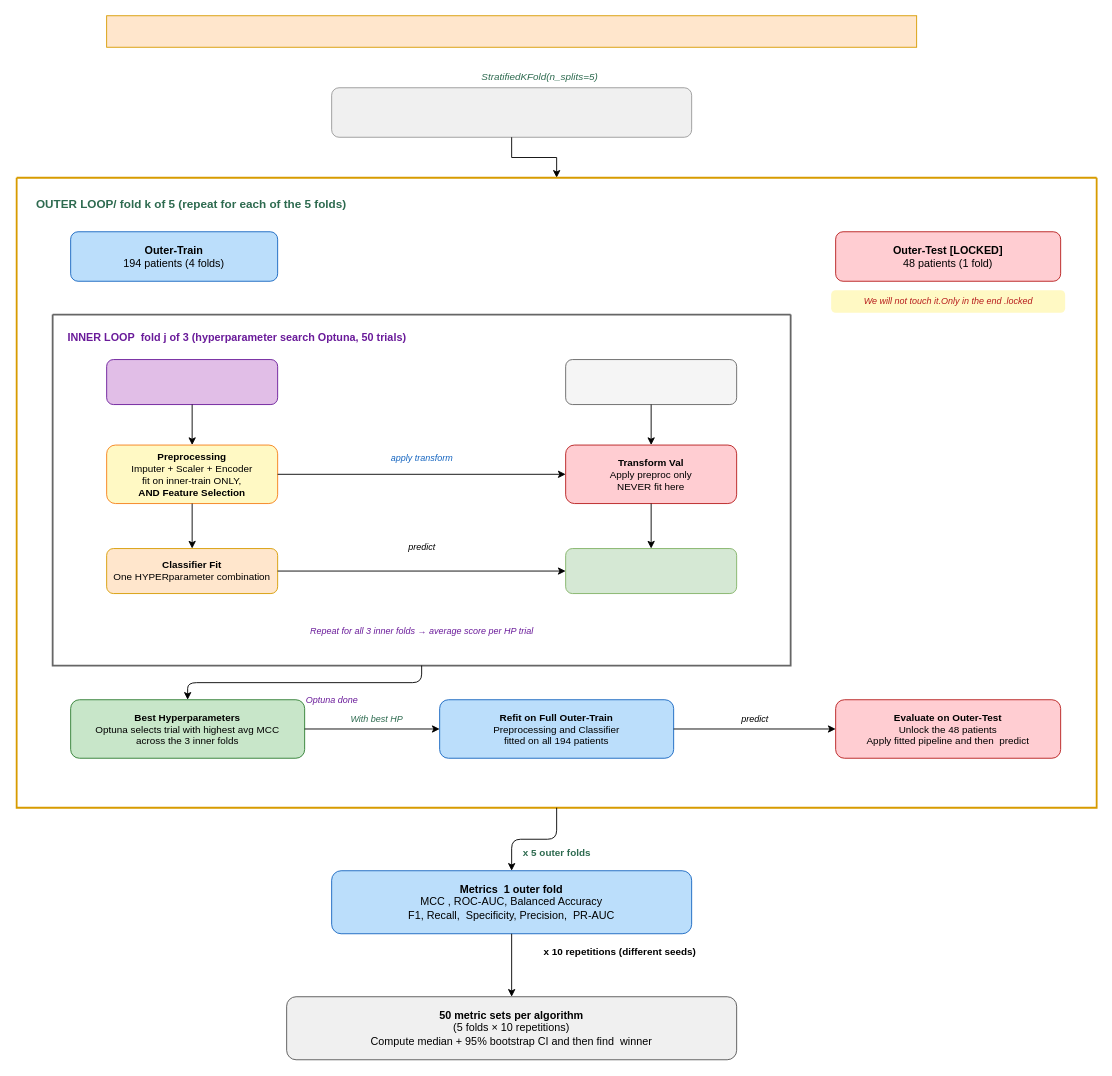
The diagram is 1112 pixels wide and 1076 high, and some of its shapes have lost their labels. The box of each missing label's shape, as (x1, y1, x2, y2) in pixels:
Full Dataset 242 patients, 13 features, target (num): (331, 87, 692, 137)
Inner Validation 65 patients: (565, 359, 737, 405)
Inner-Train 129 patients: (106, 359, 278, 405)
Repeated Nested Cross-Validation One Iteration: (106, 15, 917, 47)
Score Compute MCC on val: (565, 548, 737, 594)
